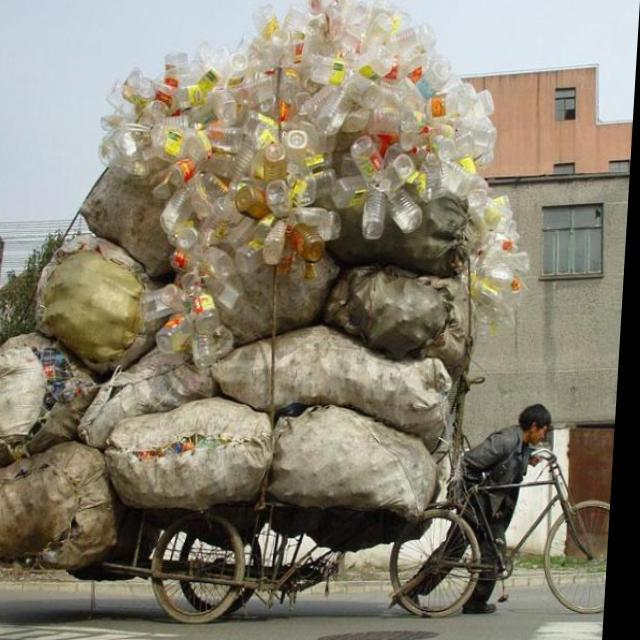uncovered: (21, 48, 534, 567)
